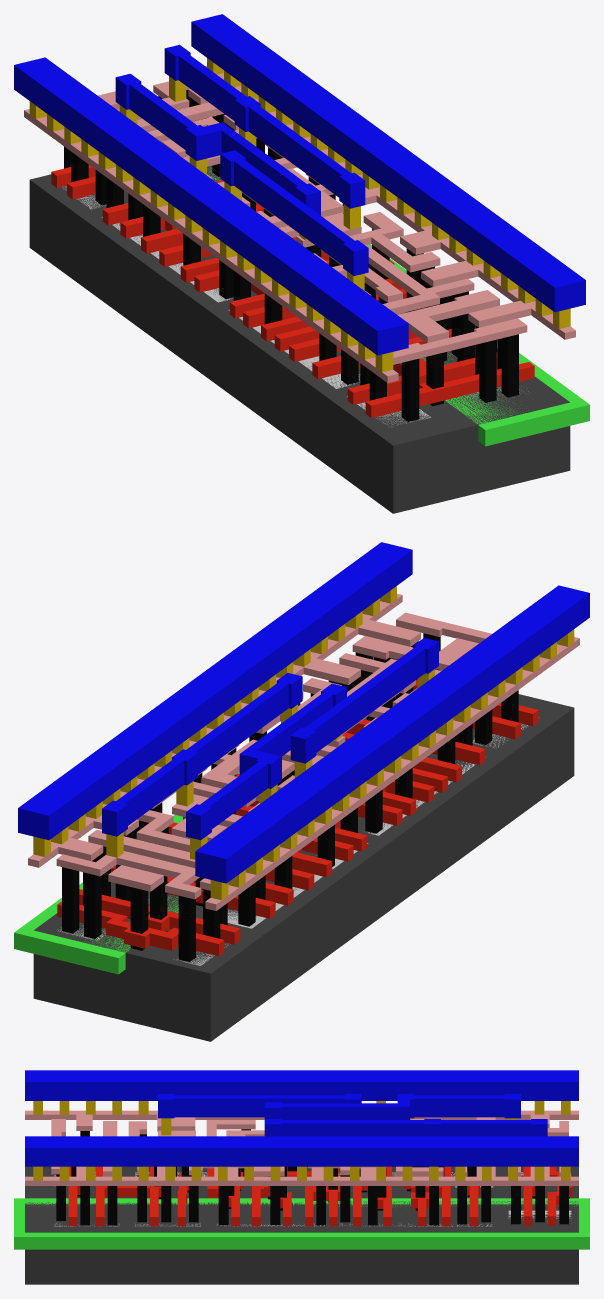
The model's file is sky130_fd_sc_hd__dfstp_1.obj.
The picture shows the model from 3 angles, top to bottom: view 1: azimuth 30°, elevation 25°; view 2: azimuth 150°, elevation 25°; view 3: azimuth 270°, elevation 25°; orthographic projection. The views are drawn at different scales.
Parts seen in each view (by area): view 1: metal1, subs, li, licon, poly, mcon, nwell, diff; view 2: metal1, subs, li, licon, poly, mcon, nwell, diff; view 3: metal1, subs, nwell, li, licon, poly, mcon, tap.
Part boxes in pixels (x1=…): metal1: x1=14, y1=14, x2=585, y2=355; subs: x1=29, y1=166, x2=570, y2=513; li: x1=24, y1=65, x2=575, y2=382; licon: x1=64, y1=90, x2=518, y2=421; poly: x1=51, y1=164, x2=534, y2=417; mcon: x1=29, y1=58, x2=570, y2=372; nwell: x1=208, y1=167, x2=589, y2=446; diff: x1=62, y1=186, x2=430, y2=426; metal1: x1=18, y1=542, x2=589, y2=883; subs: x1=33, y1=694, x2=574, y2=1041; li: x1=28, y1=593, x2=579, y2=910; licon: x1=62, y1=633, x2=518, y2=961; poly: x1=57, y1=680, x2=538, y2=956; mcon: x1=33, y1=586, x2=574, y2=900; nwell: x1=14, y1=670, x2=441, y2=974; diff: x1=174, y1=723, x2=528, y2=965; metal1: x1=25, y1=1070, x2=578, y2=1166; subs: x1=25, y1=1166, x2=578, y2=1284; nwell: x1=14, y1=1198, x2=589, y2=1249; li: x1=25, y1=1110, x2=578, y2=1185; licon: x1=56, y1=1129, x2=569, y2=1225; poly: x1=68, y1=1166, x2=572, y2=1226; mcon: x1=33, y1=1101, x2=570, y2=1180; tap: x1=54, y1=1210, x2=571, y2=1226.
Bounding box in the file's own units: 3.2 × 2.74 × 10.04.
